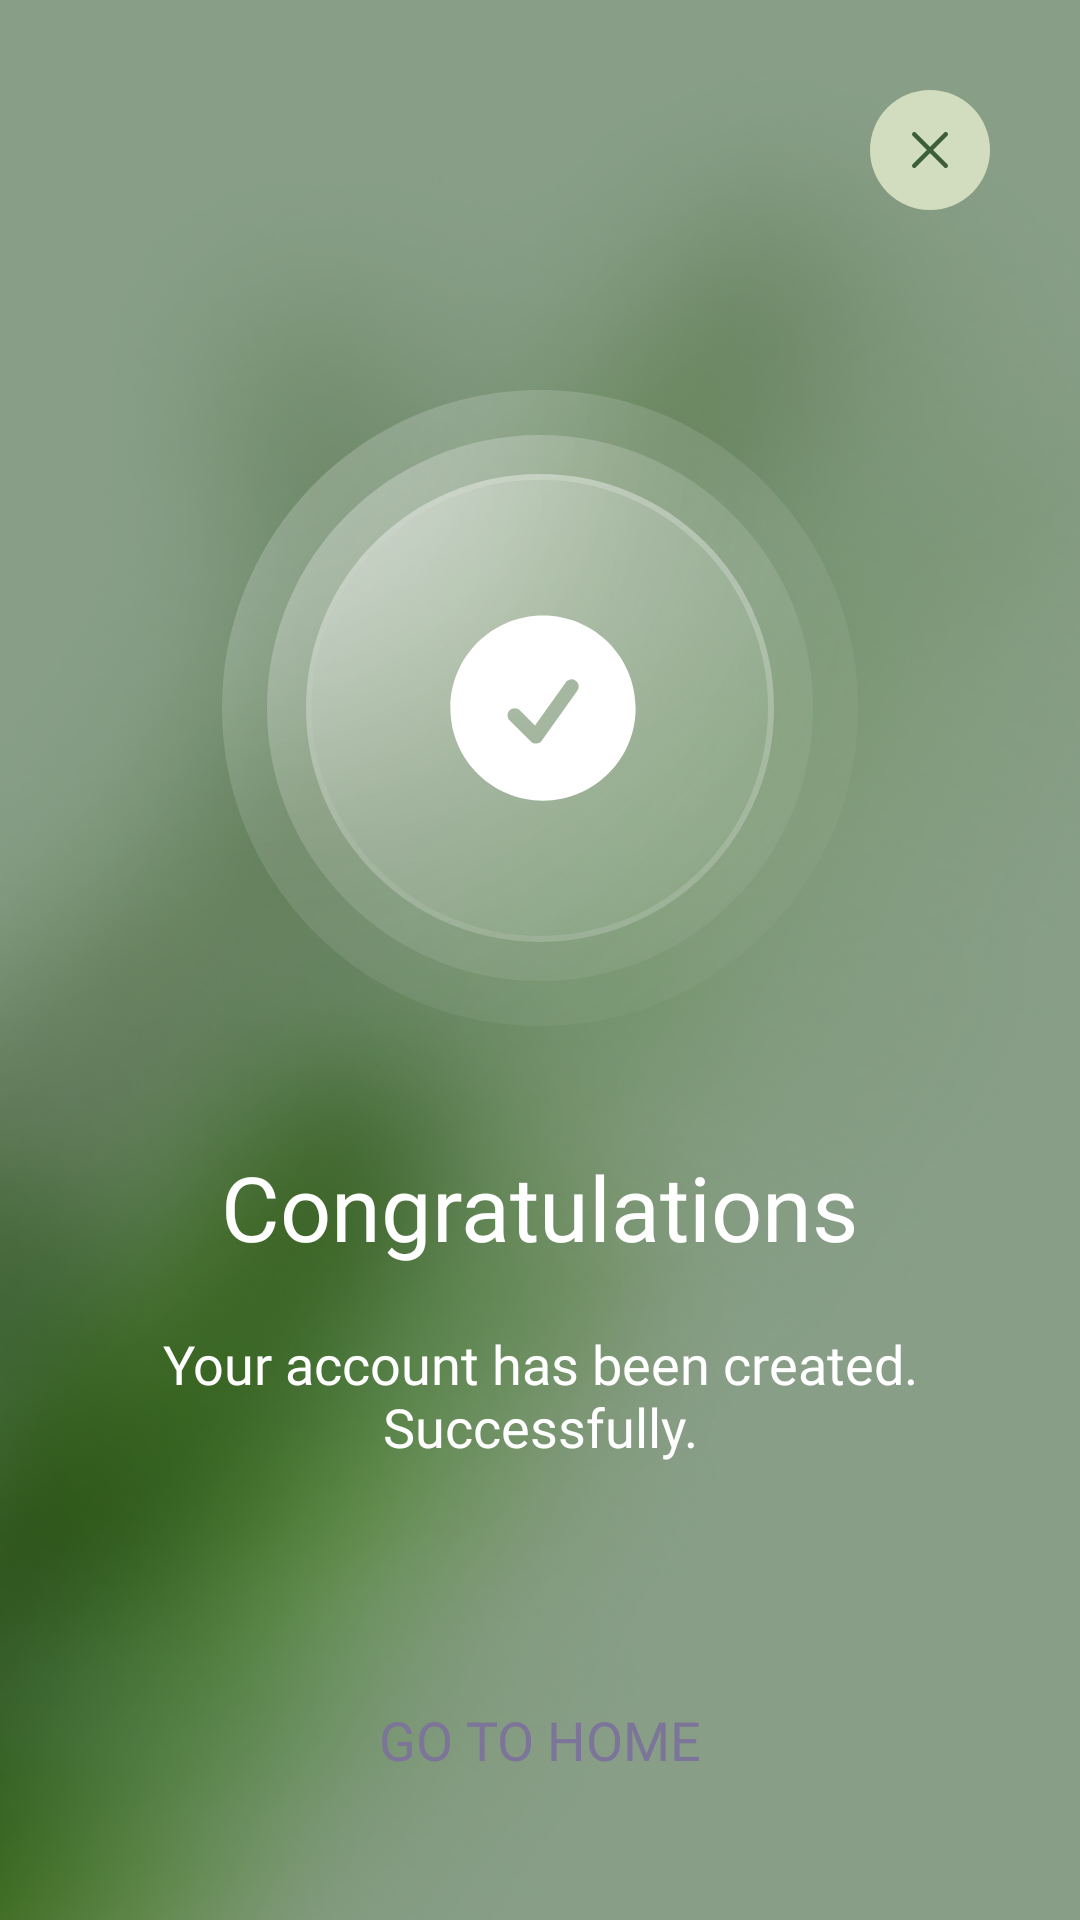

Icons on this 1080px x 1920px Android screen, each with its box as rect(x1, y1, x2, y2):
cross: rect(870, 90, 990, 210)
